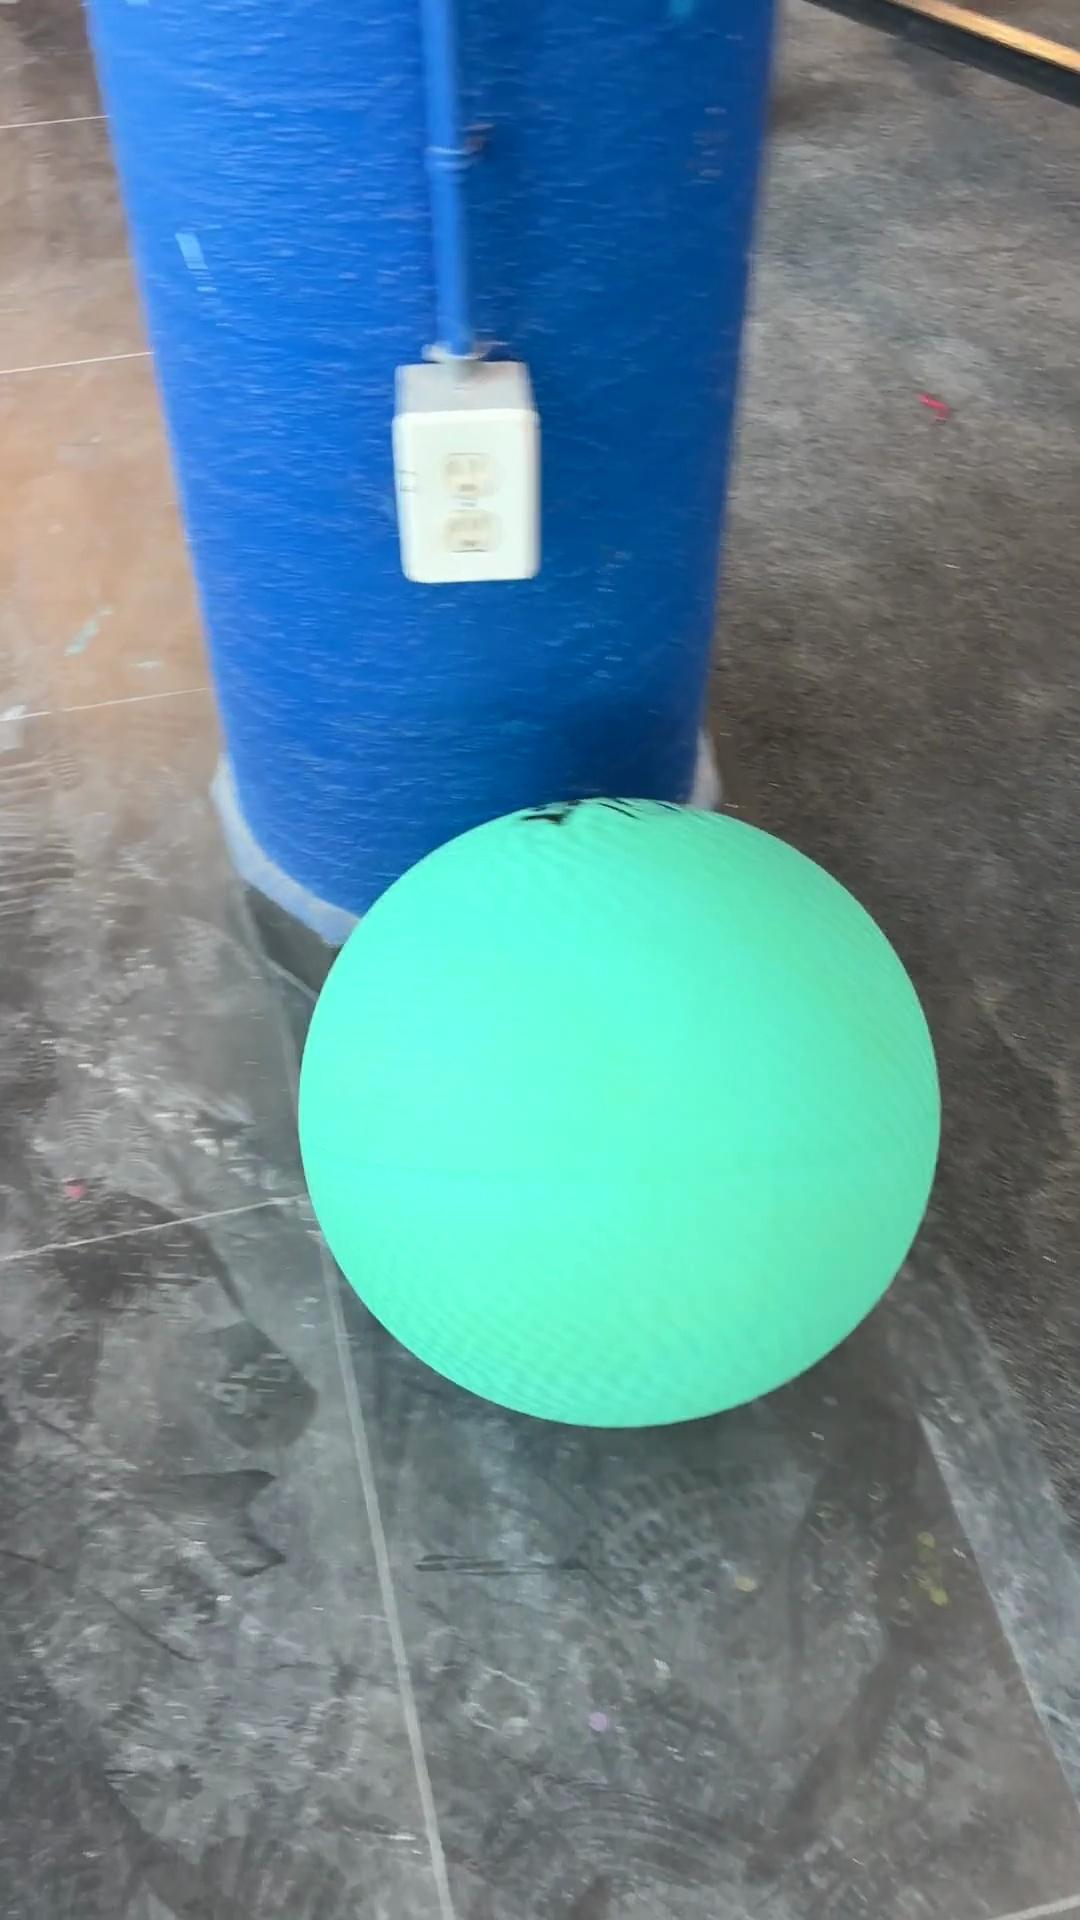ALGAE: (293, 791, 943, 1432)
